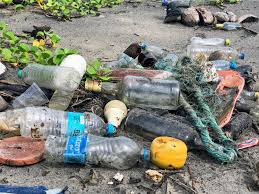garbage: (1, 40, 259, 181), (16, 77, 259, 185), (169, 6, 258, 170)
